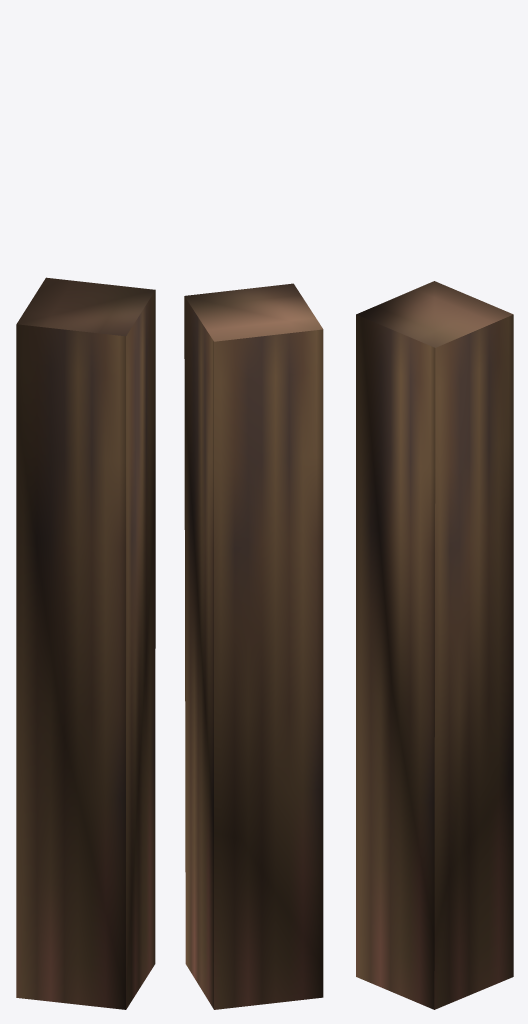
The picture shows the model from 3 angles, left to right: view 1: azimuth 30°, elevation 25°; view 2: azimuth 150°, elevation 25°; view 3: azimuth 270°, elevation 25°; orthographic projection.
Visible parts, largest first — view 1: T1L6M006_1; view 2: T1L6M006_1; view 3: T1L6M006_1.
Boxes of the visible parts, x1=… form: T1L6M006_1: x1=16, y1=277, x2=155, y2=1009; T1L6M006_1: x1=184, y1=283, x2=323, y2=1009; T1L6M006_1: x1=356, y1=281, x2=513, y2=1009.
Bounding box in the file's own units: 0.166 × 1.06 × 0.166.
